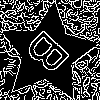B: (23, 28, 78, 83)
